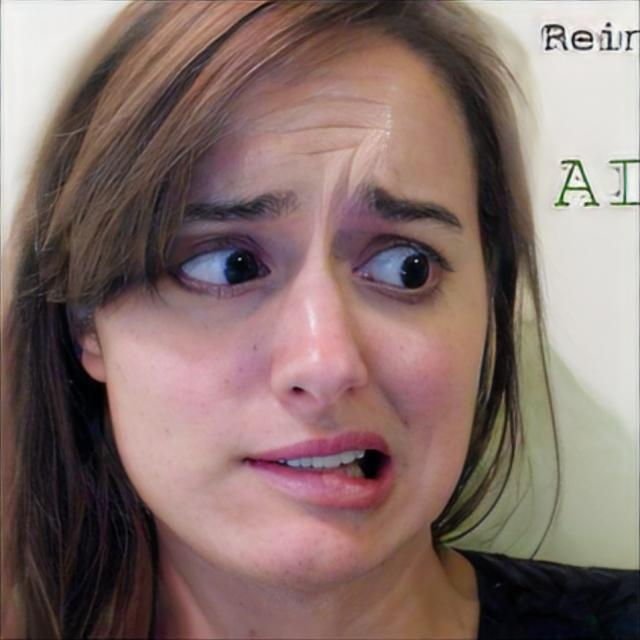Fear: (96, 19, 492, 590)
